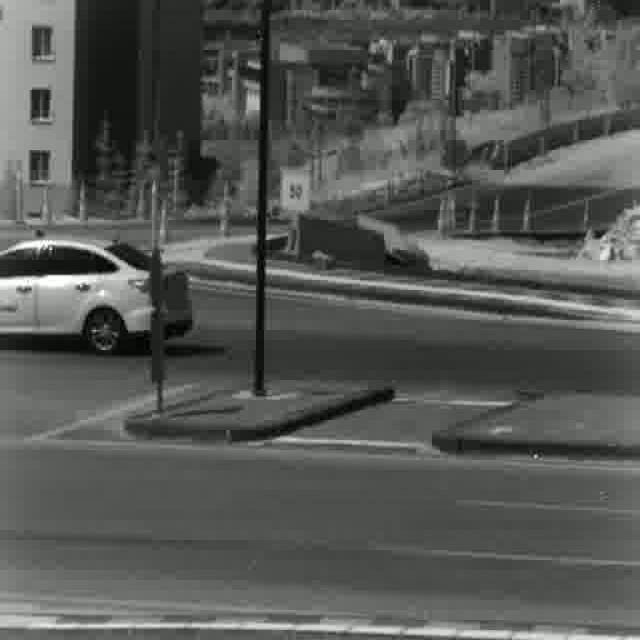Car: (0, 236, 194, 355)
